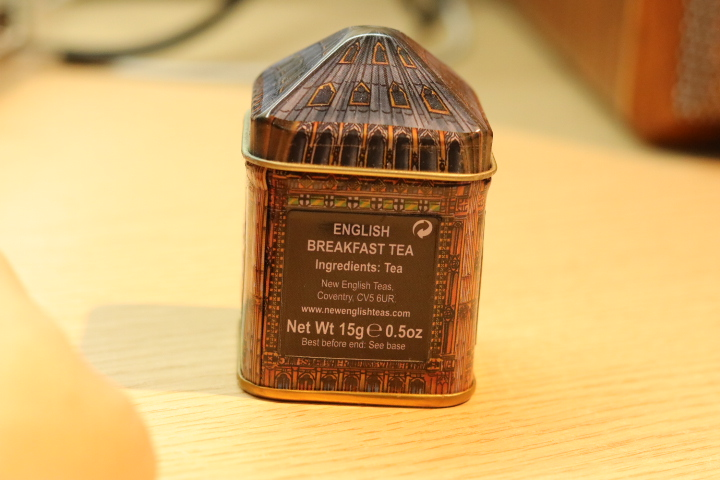Big Ben: (228, 11, 508, 422)
